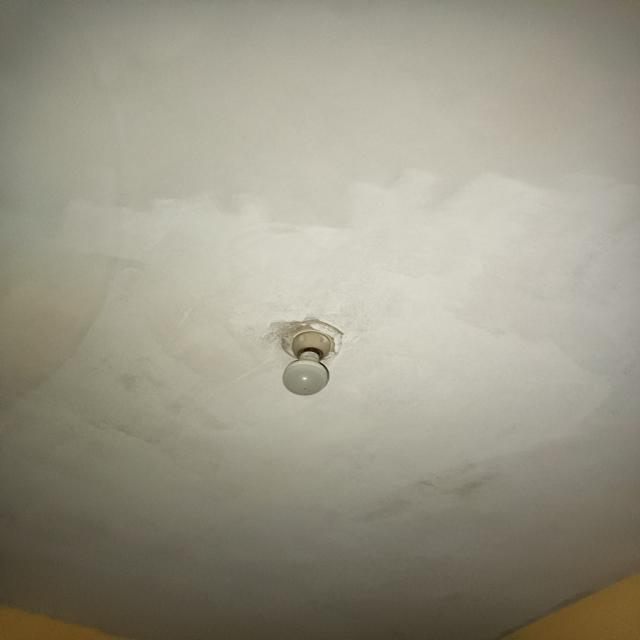bulb_off: (282, 322, 343, 394)
